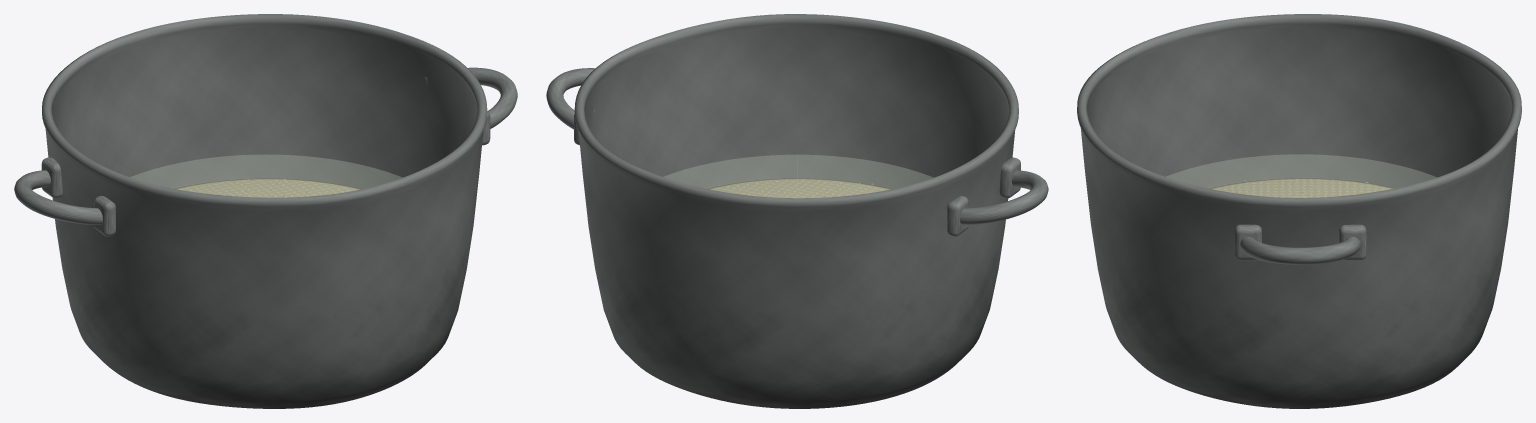
The model's file is SM_RiceWashingPot.fbx.
3 views of the same model, side by side, from view 1: azimuth 30°, elevation 25°; view 2: azimuth 150°, elevation 25°; view 3: azimuth 270°, elevation 25° (orthographic).
Parts seen in each view (by area): view 1: Pot_Body, Water_Surface, Handle_Left, Rice_Grains, Handle_Right; view 2: Pot_Body, Water_Surface, Handle_Left, Rice_Grains, Handle_Right; view 3: Pot_Body, Water_Surface, Handle_Right, Rice_Grains.
Boxes of the visible parts, x1=… form: Pot_Body: x1=42, y1=14, x2=487, y2=408; Water_Surface: x1=130, y1=154, x2=401, y2=197; Handle_Left: x1=14, y1=157, x2=115, y2=236; Rice_Grains: x1=172, y1=178, x2=361, y2=197; Handle_Right: x1=423, y1=67, x2=517, y2=145; Pot_Body: x1=574, y1=14, x2=1018, y2=408; Water_Surface: x1=664, y1=155, x2=932, y2=197; Handle_Left: x1=947, y1=157, x2=1048, y2=236; Rice_Grains: x1=706, y1=178, x2=892, y2=198; Handle_Right: x1=546, y1=68, x2=595, y2=145; Pot_Body: x1=1077, y1=14, x2=1521, y2=408; Water_Surface: x1=1166, y1=154, x2=1436, y2=197; Handle_Right: x1=1234, y1=224, x2=1366, y2=264; Rice_Grains: x1=1208, y1=178, x2=1395, y2=197.
Bounding box in the file's own units: 0.592 × 0.2747 × 0.468.
Materials: 4 (3 with a texture image).
